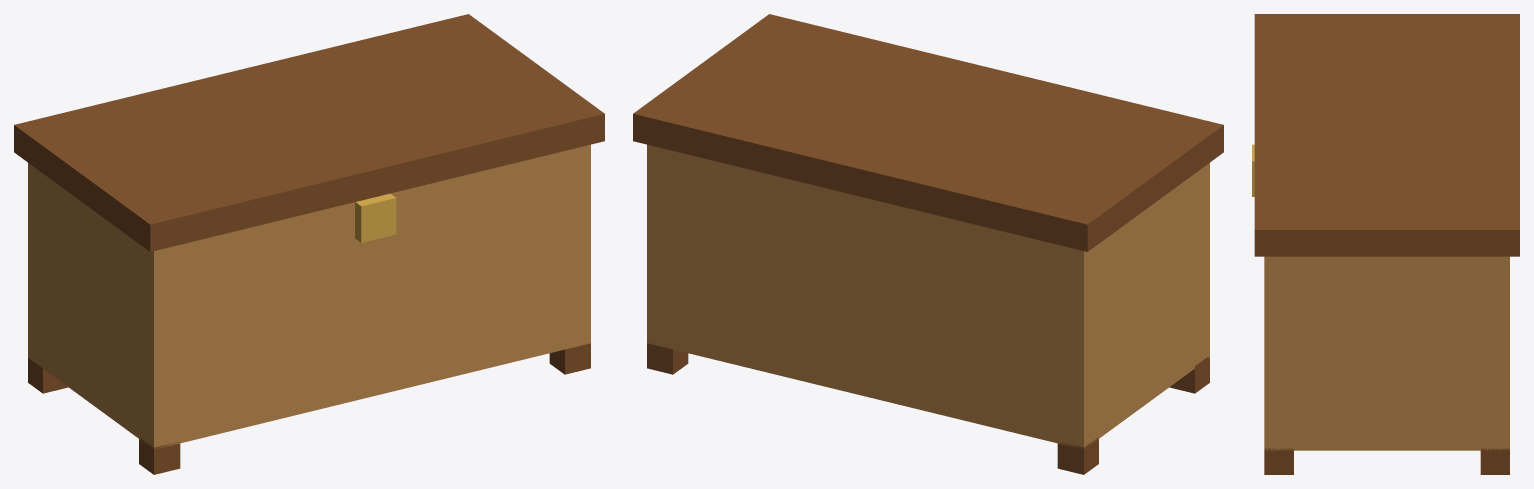
The model's file is blanket_chest.glb.
3 views of the same model, side by side, from view 1: azimuth 30°, elevation 25°; view 2: azimuth 150°, elevation 25°; view 3: azimuth 270°, elevation 25° (orthographic). The views are drawn at different scales.
Parts seen in each view (by area): view 1: blanket_chest; view 2: blanket_chest; view 3: blanket_chest.
Part boxes in pixels (<box>): blanket_chest: <box>14,14,604,474</box>; blanket_chest: <box>633,14,1223,474</box>; blanket_chest: <box>1252,14,1519,474</box>.
Bounding box in the file's own units: 1.04 × 0.56 × 0.545.
